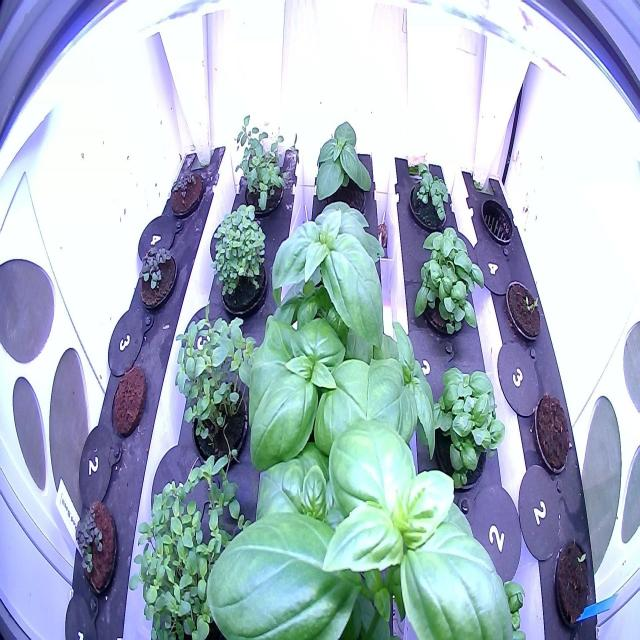empty_pod: (478, 190, 518, 252)
germination: (69, 496, 124, 604), (552, 532, 600, 634), (135, 238, 180, 311), (502, 275, 546, 348), (164, 159, 206, 224)
pod: (531, 388, 576, 480), (107, 360, 150, 440)
